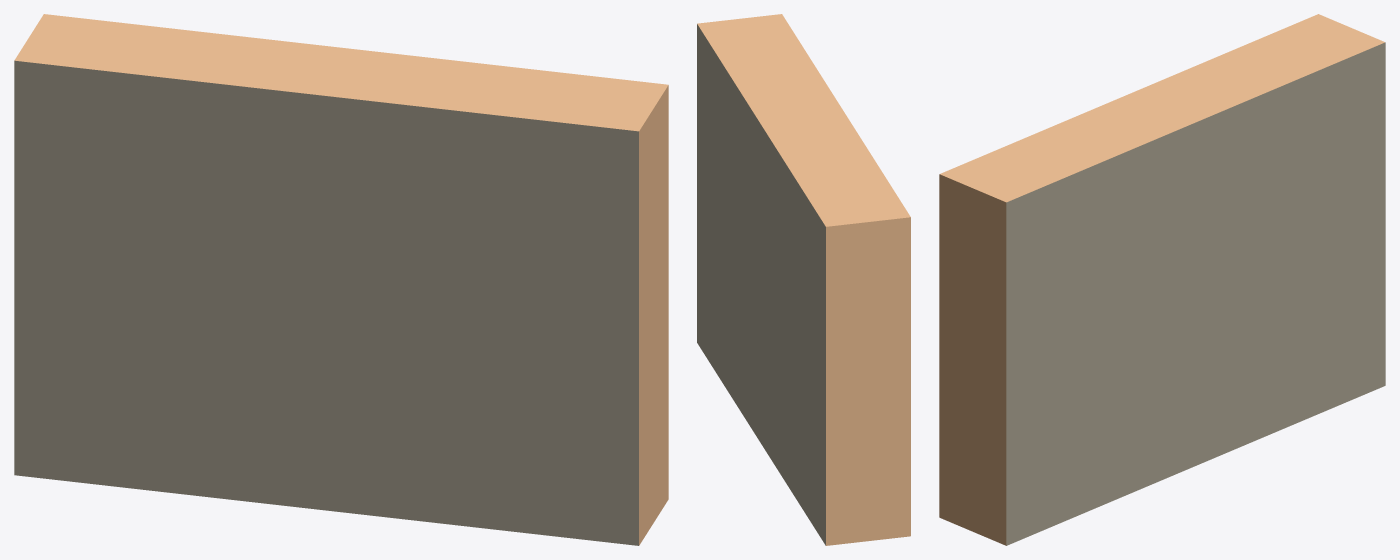
File: Tiered_Retaining_Wall_45_Degrees_Straight_2x2_Mid.glb
3 views of the same model, side by side, from view 1: azimuth 30°, elevation 25°; view 2: azimuth 150°, elevation 25°; view 3: azimuth 270°, elevation 25° (orthographic). The views are drawn at different scales.
Visible parts, largest first — view 1: Tiered_Retaining_Wall_45_Degrees_Straight_2x2_Mid; view 2: Tiered_Retaining_Wall_45_Degrees_Straight_2x2_Mid; view 3: Tiered_Retaining_Wall_45_Degrees_Straight_2x2_Mid.
Boxes of the visible parts, x1=… form: Tiered_Retaining_Wall_45_Degrees_Straight_2x2_Mid: x1=14, y1=14, x2=668, y2=545; Tiered_Retaining_Wall_45_Degrees_Straight_2x2_Mid: x1=697, y1=14, x2=910, y2=545; Tiered_Retaining_Wall_45_Degrees_Straight_2x2_Mid: x1=939, y1=14, x2=1385, y2=545.
Size of the model in its own units: 118 by 100 by 118.
